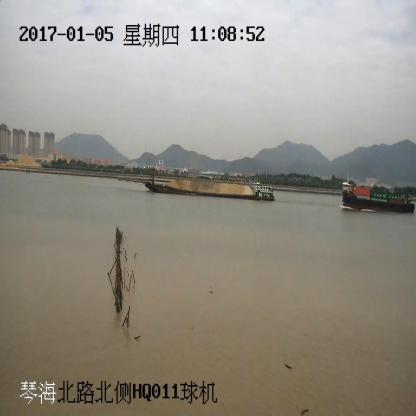Container Ship: (342, 180, 415, 212)
